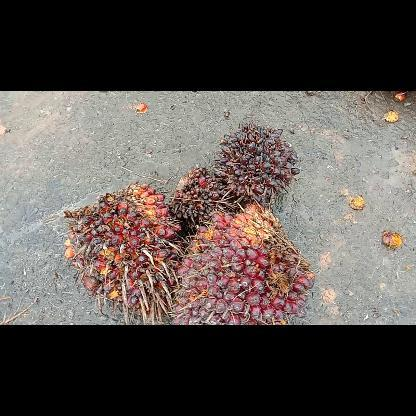TBS abnormal: (207, 119, 301, 215), (168, 165, 236, 233)
TBS masak: (170, 200, 316, 324), (60, 182, 188, 320)
